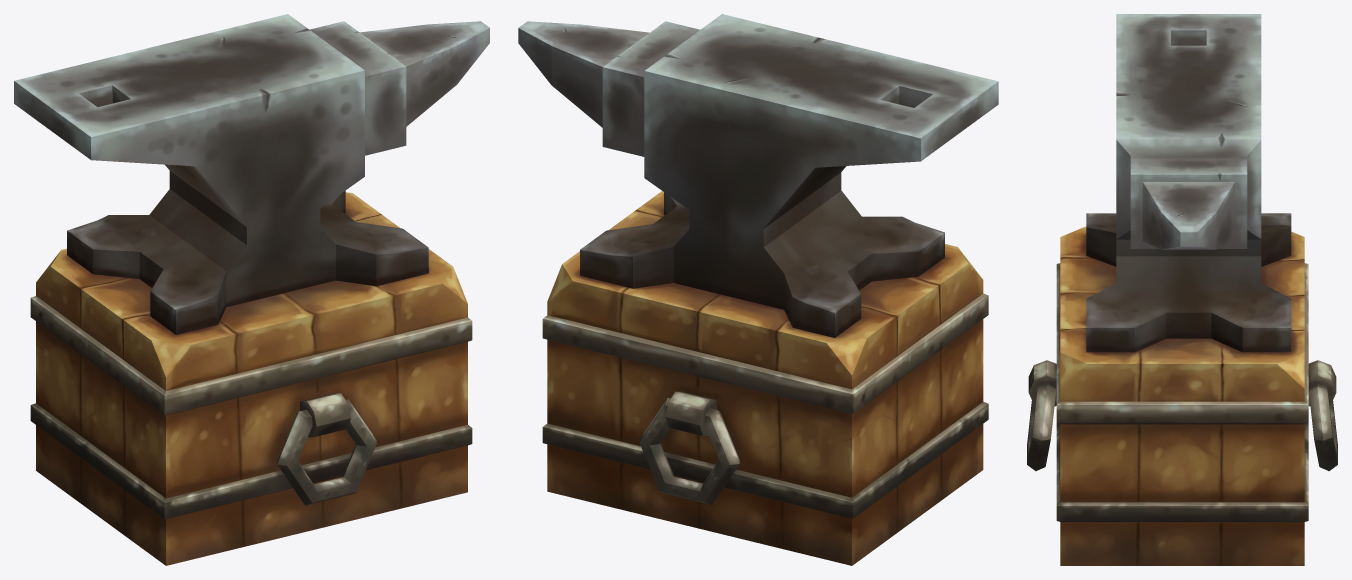
3 views of the same model, side by side, from view 1: azimuth 30°, elevation 25°; view 2: azimuth 150°, elevation 25°; view 3: azimuth 270°, elevation 25° (orthographic). The views are drawn at different scales.
Visible parts, largest first — view 1: simple-anvil; view 2: simple-anvil; view 3: simple-anvil.
Boxes of the visible parts, left/top/right/bottom form: simple-anvil: left=14, top=14, right=489, bottom=565; simple-anvil: left=518, top=14, right=998, bottom=565; simple-anvil: left=1027, top=14, right=1337, bottom=565.
Bounding box in the file's own units: 6.42 × 5.92 × 4.25.
1 material, 1 textured.
